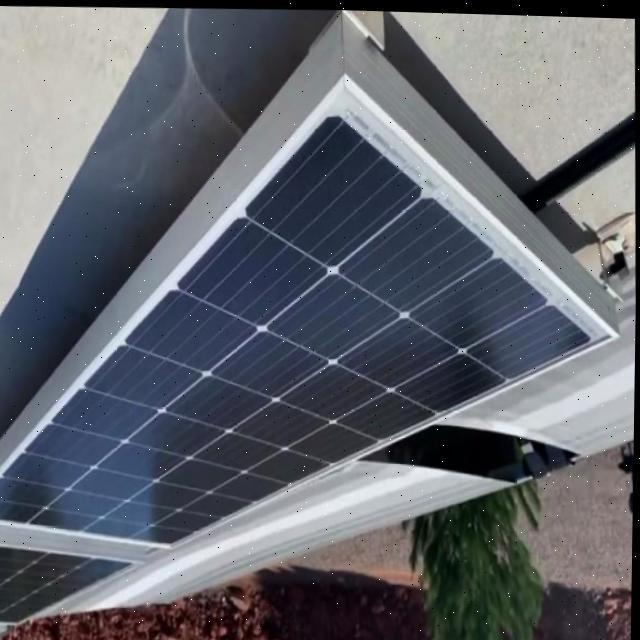Normal Solar Panel: (0, 67, 625, 562), (0, 527, 145, 640)
